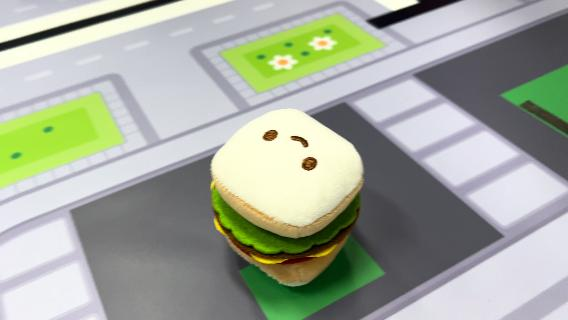sandwich: (208, 106, 367, 288)
